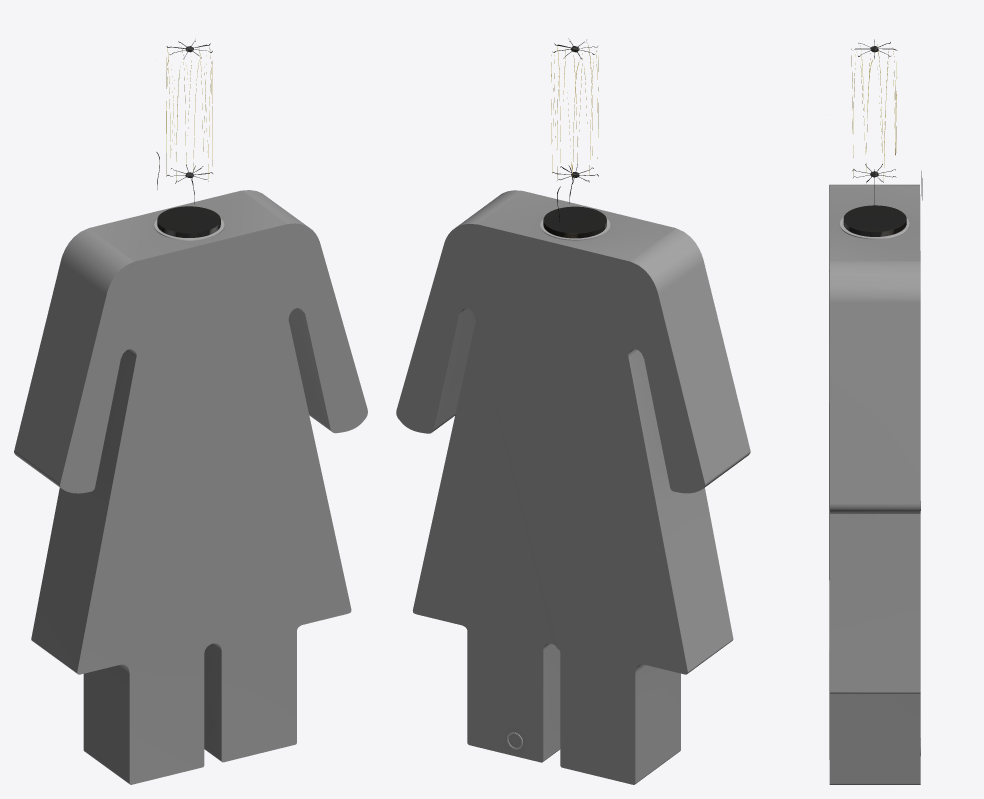
File: raw_model.obj
3 renders of one model, left to right at view 1: azimuth 30°, elevation 25°; view 2: azimuth 150°, elevation 25°; view 3: azimuth 270°, elevation 25°, orthographic.
Visible parts, largest first — view 1: solid_004, solid_001, solid_005; view 2: solid_004, solid_001, solid_005; view 3: solid_004, solid_001, solid_005.
Part boxes in pixels (bbox=[...]): solid_004: bbox=[14, 190, 367, 784]; solid_001: bbox=[156, 40, 220, 237]; solid_005: bbox=[166, 47, 212, 181]; solid_004: bbox=[396, 190, 750, 784]; solid_001: bbox=[543, 38, 606, 238]; solid_005: bbox=[551, 43, 598, 178]; solid_004: bbox=[829, 184, 920, 784]; solid_001: bbox=[843, 39, 922, 236]; solid_005: bbox=[851, 44, 897, 180].
Size of the model in its own units: 0.7442 by 1.67 by 0.3992.
Materials: 1 (1 with a texture image).
